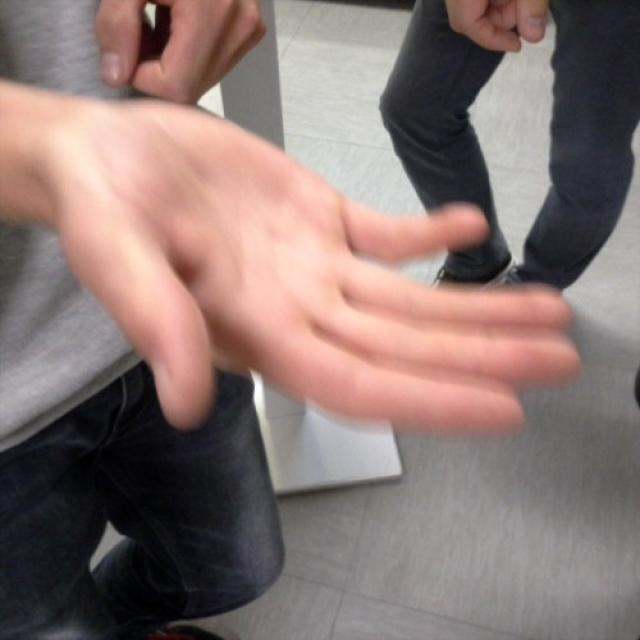paper: (77, 97, 578, 432)
